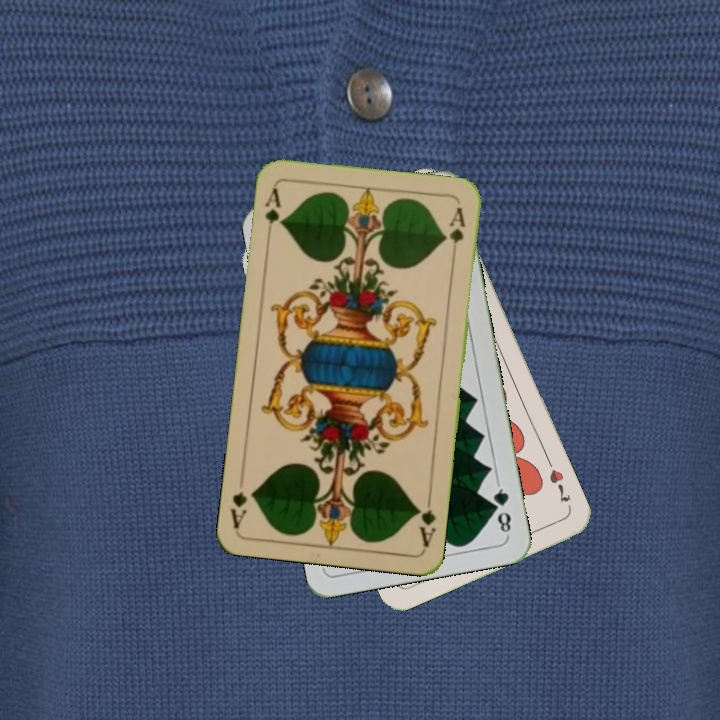G8: (488, 479, 514, 538)
GA: (412, 490, 438, 550), (260, 181, 286, 240)
H7: (545, 465, 574, 506)
